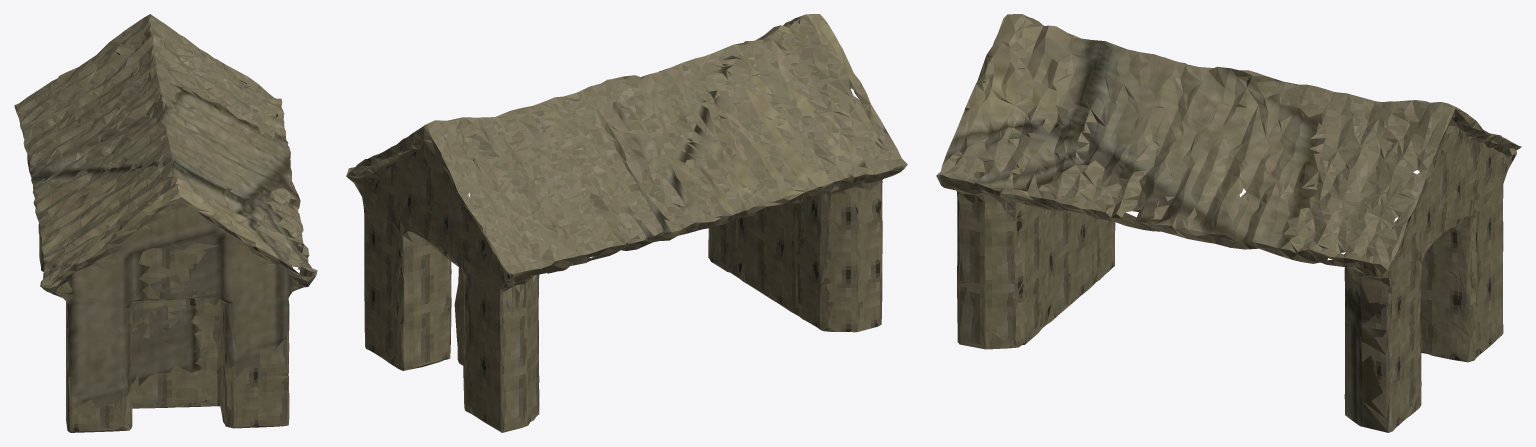
3 views of the same model, side by side, from view 1: azimuth 30°, elevation 25°; view 2: azimuth 150°, elevation 25°; view 3: azimuth 270°, elevation 25° (orthographic). The views are drawn at different scales.
Parts seen in each view (by area): view 1: painted, roof, wall; view 2: roof, wall, painted; view 3: painted, wall, roof.
Boxes of the visible parts, x1,y1,x2,y2 form: painted: (29,85,317,409); roof: (14,14,314,290); wall: (14,43,314,432); roof: (346,14,907,332); wall: (346,17,907,432); painted: (450,14,891,352); painted: (936,14,1387,432); wall: (940,19,1520,432); roof: (936,14,1521,269).
Bounding box in the file's own units: 2.81 × 1.76 × 3.29.
3 materials, 3 textured.
